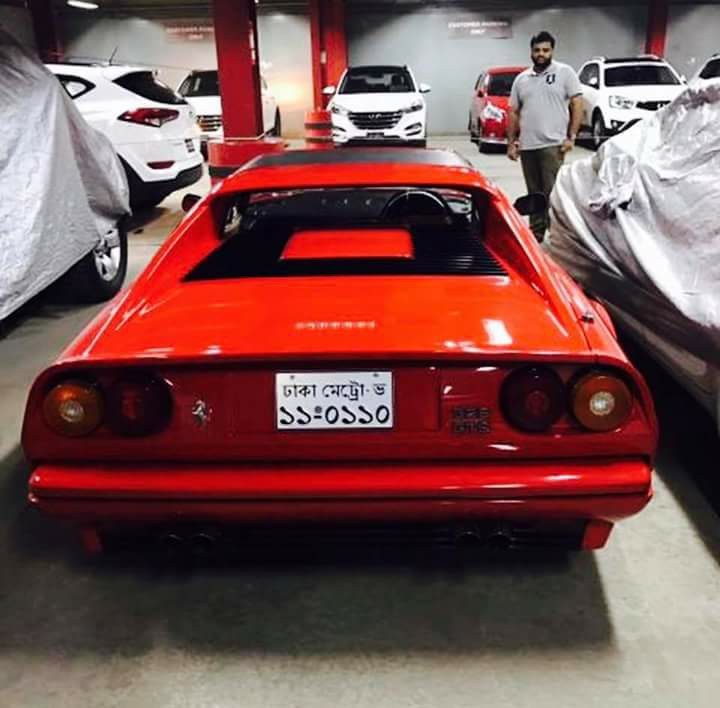registration_plate: (275, 370, 395, 430)
